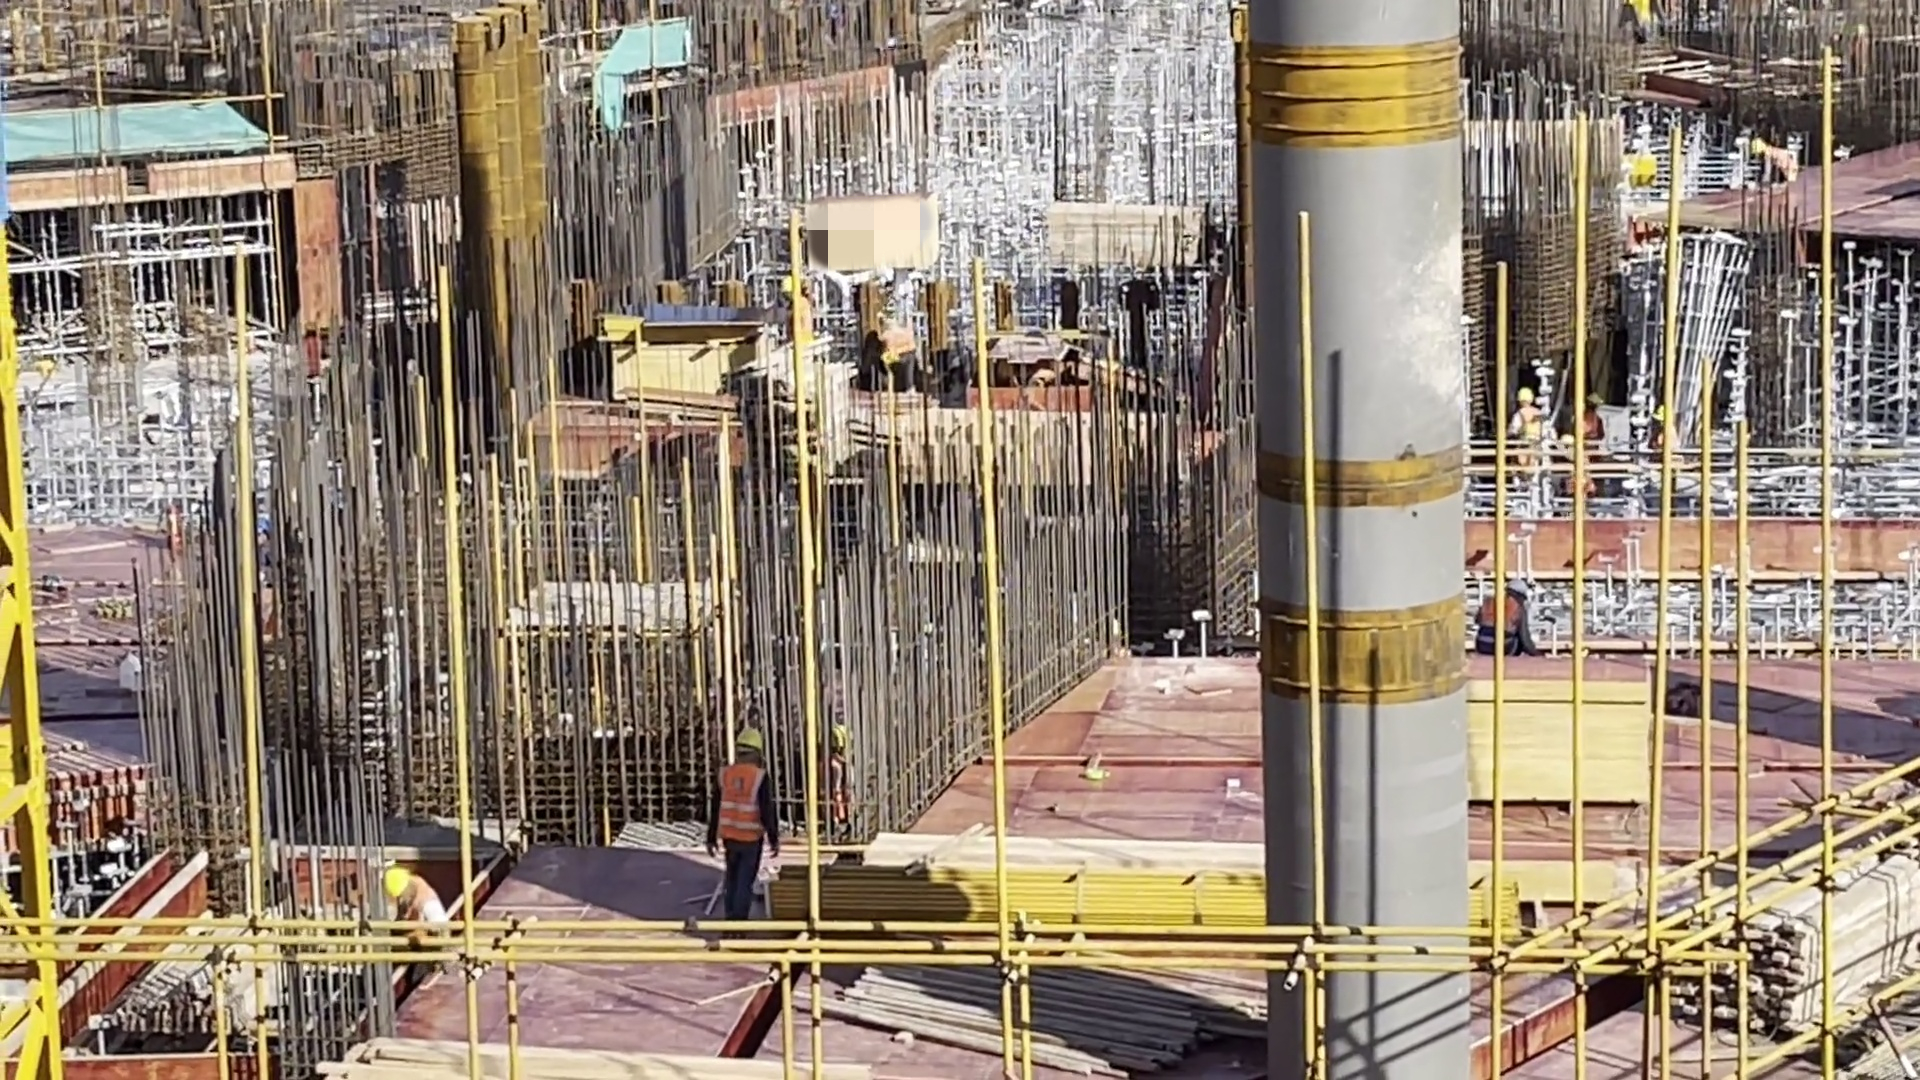helmet: (731, 723, 766, 760), (827, 720, 859, 755), (375, 863, 412, 892), (1520, 383, 1544, 411), (1745, 131, 1772, 154), (1507, 579, 1535, 599), (1587, 390, 1604, 409)
person: (708, 723, 772, 911), (370, 858, 450, 975), (867, 304, 928, 404), (1472, 574, 1538, 656), (1505, 382, 1554, 479), (1744, 134, 1802, 191)
vest: (721, 770, 763, 836)
wood: (810, 937, 1176, 1080), (1667, 852, 1919, 1050)
